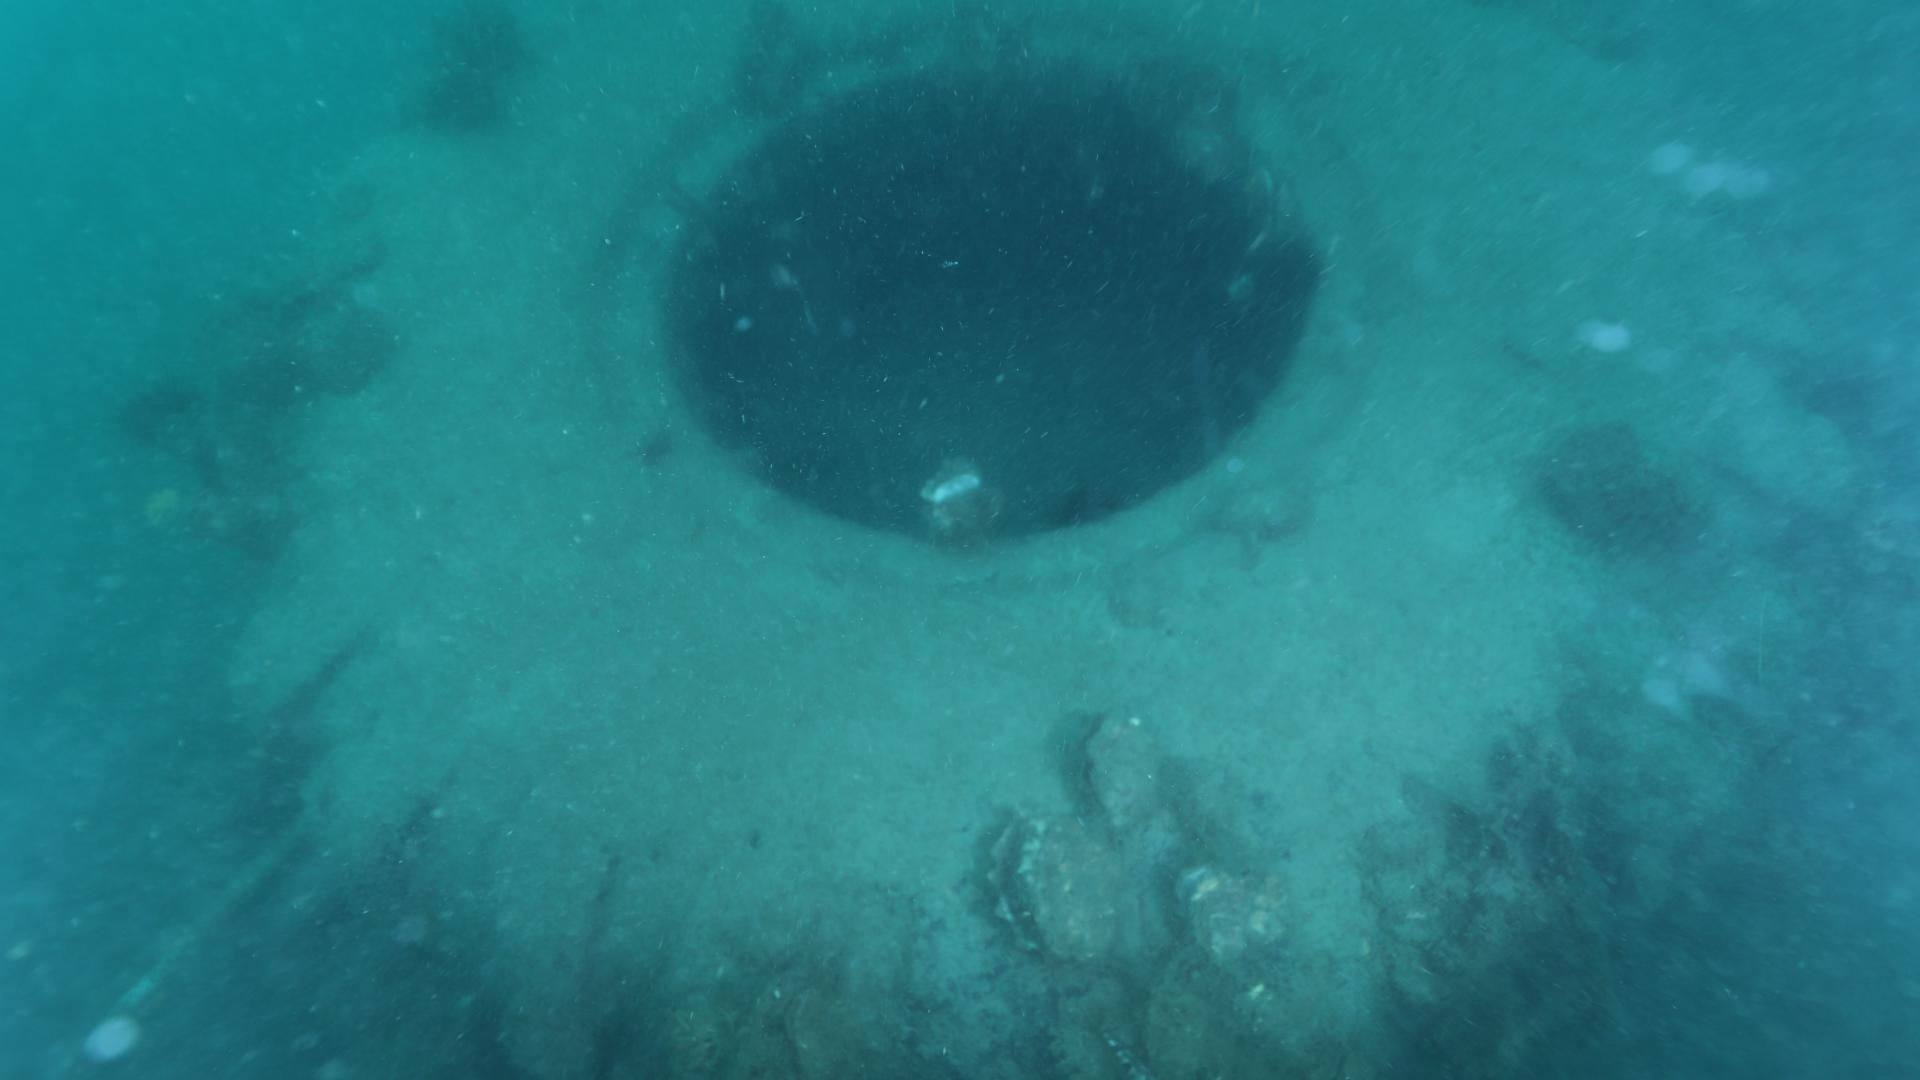tire: (232, 7, 1863, 1080)
